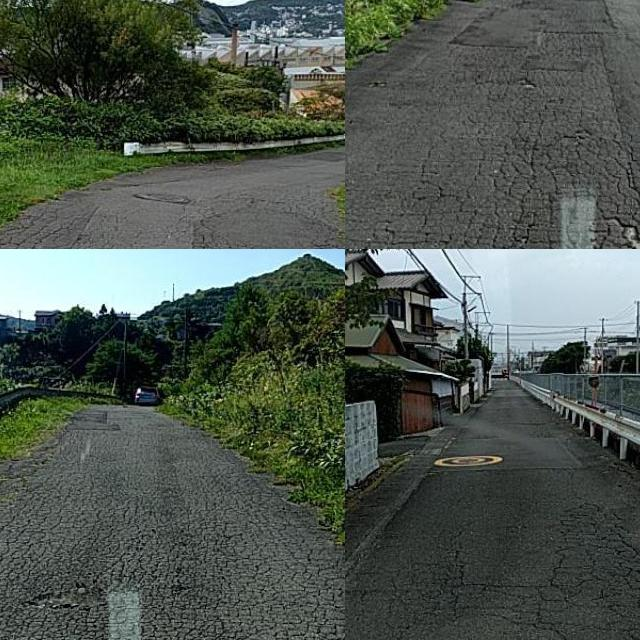Retak Buaya: (0, 467, 345, 640), (377, 78, 640, 249), (522, 493, 640, 640)
